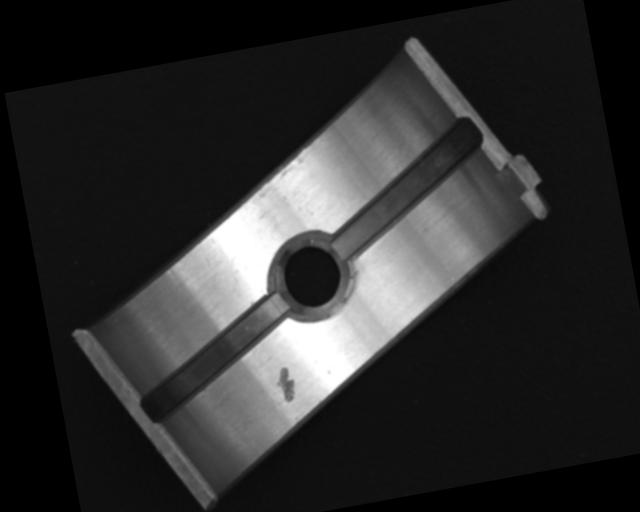bruise: (272, 365, 299, 405)
gap: (316, 116, 496, 262), (127, 293, 303, 426)
hole: (269, 231, 355, 328)
